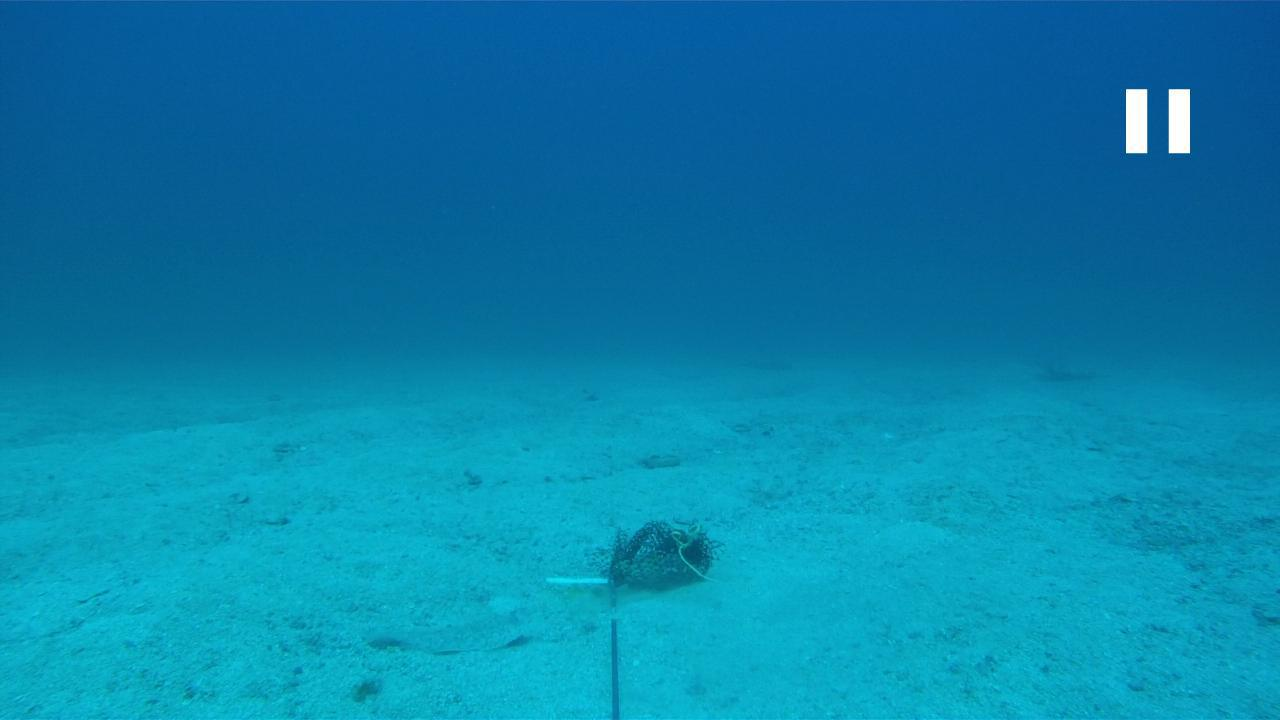bothus: (356, 600, 534, 659)
